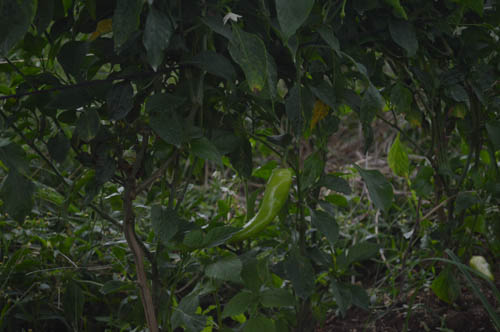ChiliPepper: (229, 168, 294, 250)
